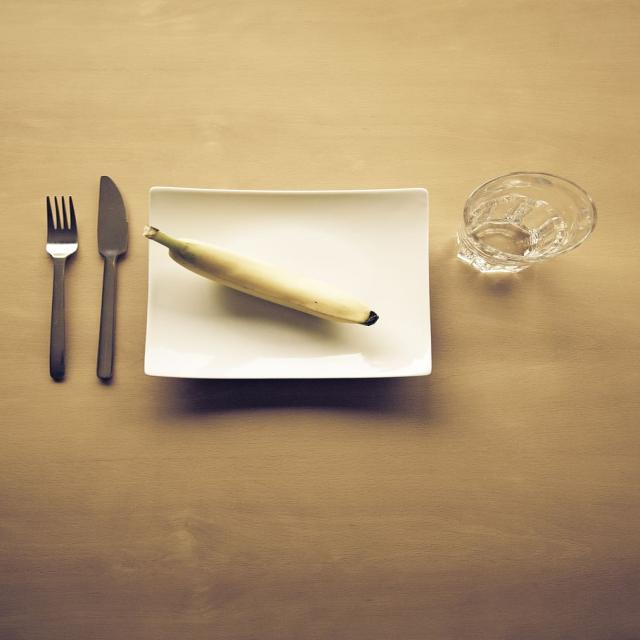knife: (94, 173, 133, 394)
